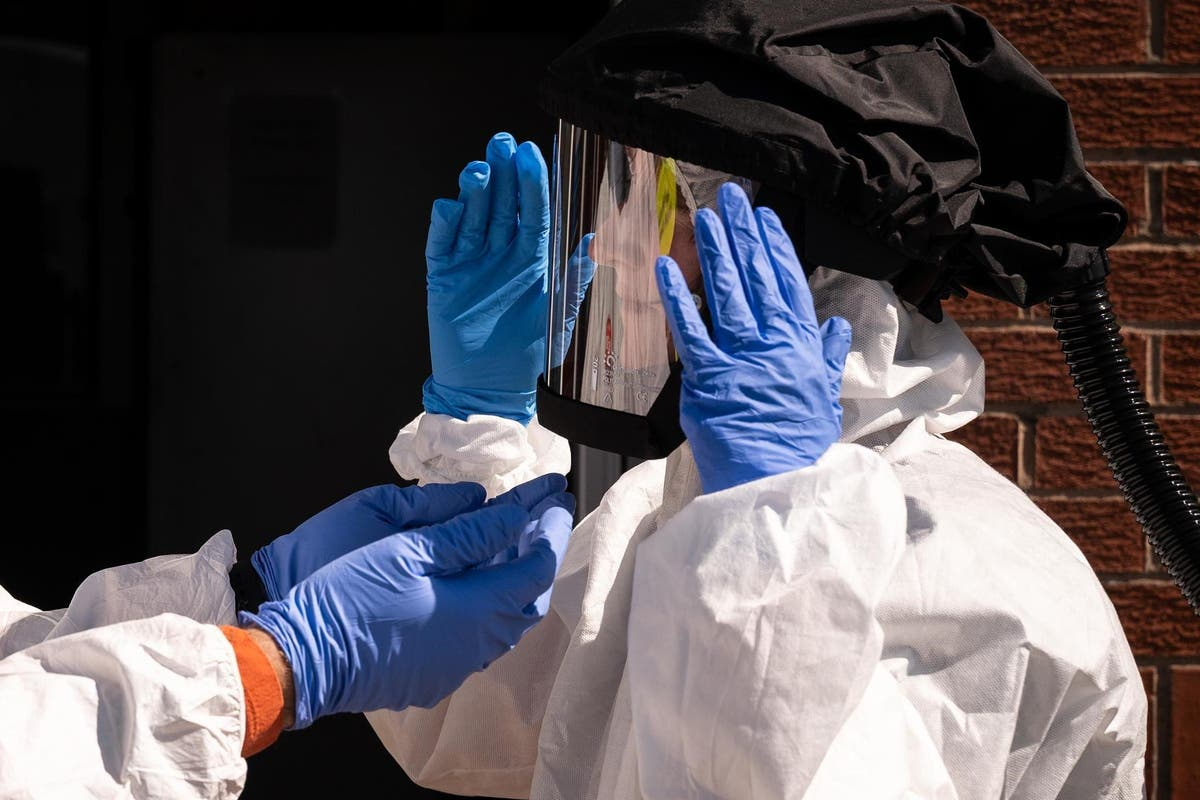Gloves: (217, 470, 579, 726), (646, 177, 851, 507), (413, 117, 569, 424)
